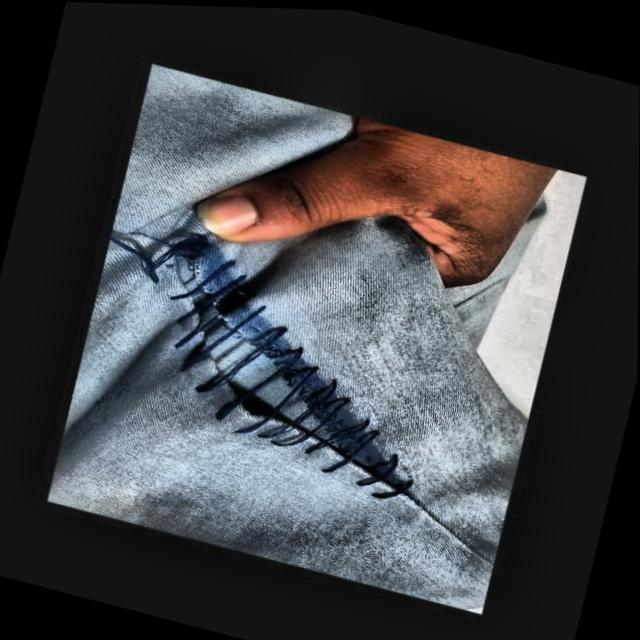Stitch: (63, 215, 456, 525)
